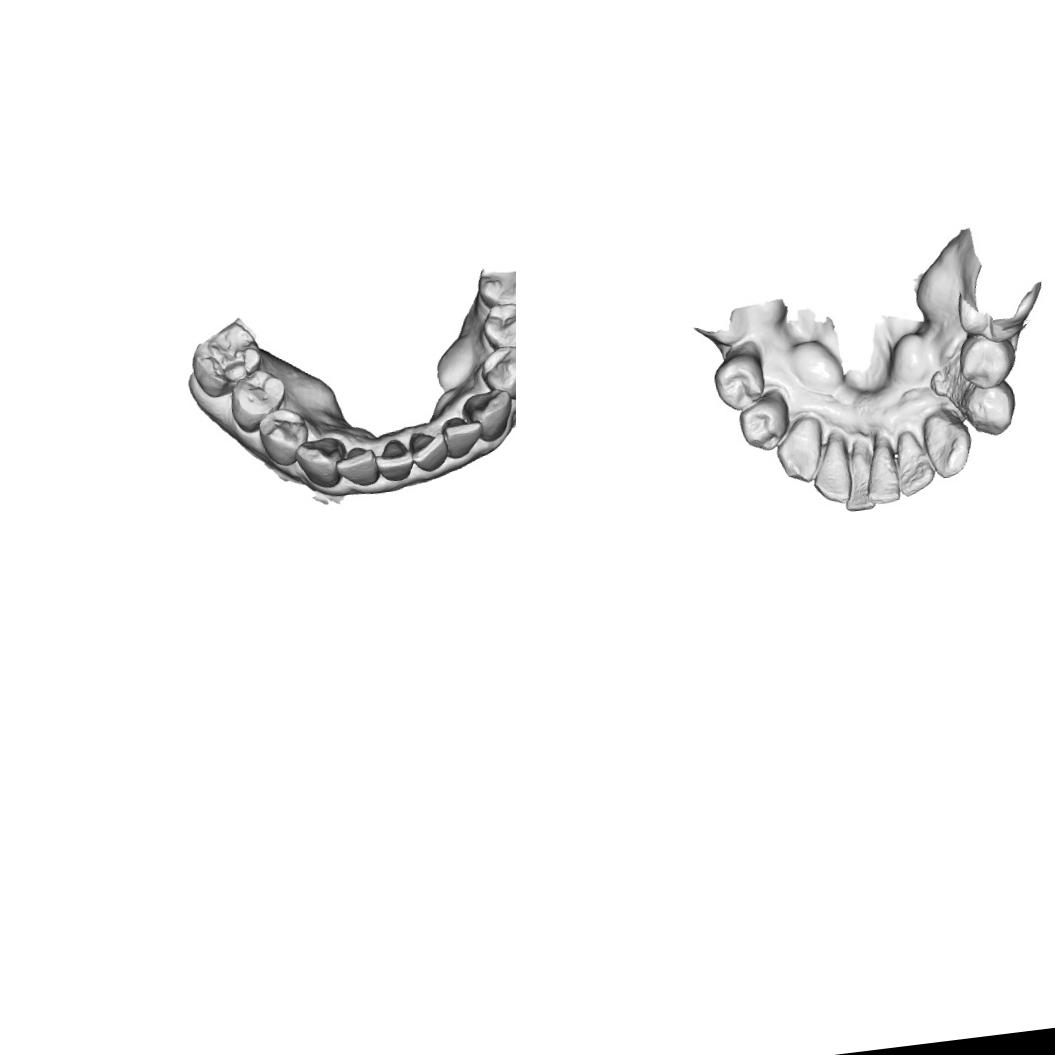canine: (771, 414, 830, 488), (920, 409, 976, 482), (291, 433, 352, 492), (459, 385, 516, 445)
incisor: (806, 437, 857, 507), (890, 425, 937, 500), (860, 444, 904, 508), (838, 450, 878, 514), (440, 412, 487, 460), (334, 442, 380, 490), (372, 435, 416, 484), (408, 426, 450, 475)
molar: (187, 318, 266, 401), (473, 254, 516, 319)
premolar: (226, 365, 292, 434), (952, 330, 1018, 394), (958, 378, 1026, 440), (708, 349, 770, 414), (733, 388, 794, 454), (256, 404, 313, 470), (478, 298, 516, 365), (477, 342, 516, 404)
